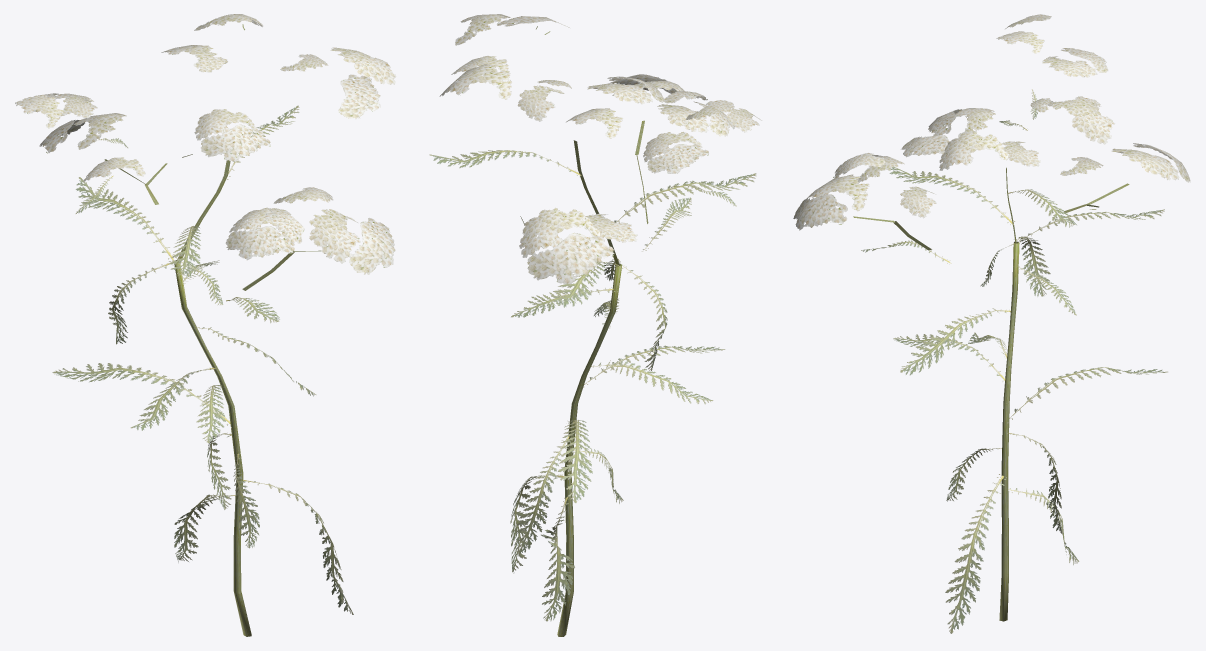
Rendered from flower_white_lod0.glb.
3 renders of one model, left to right at view 1: azimuth 30°, elevation 25°; view 2: azimuth 150°, elevation 25°; view 3: azimuth 270°, elevation 25°, orthographic. The views are drawn at different scales.
Parts seen in each view (by area): view 1: bq_Flower_Achillea-millefolium_D_spring-summer; view 2: bq_Flower_Achillea-millefolium_D_spring-summer; view 3: bq_Flower_Achillea-millefolium_D_spring-summer.
Boxes of the visible parts, x1,y1,x2,y2 form: bq_Flower_Achillea-millefolium_D_spring-summer: (15,14,395,636); bq_Flower_Achillea-millefolium_D_spring-summer: (429,14,761,636); bq_Flower_Achillea-millefolium_D_spring-summer: (793,14,1190,633).
Bounding box in the file's own units: 0.192 × 0.3225 × 0.2216.
3 materials, 3 textured.
